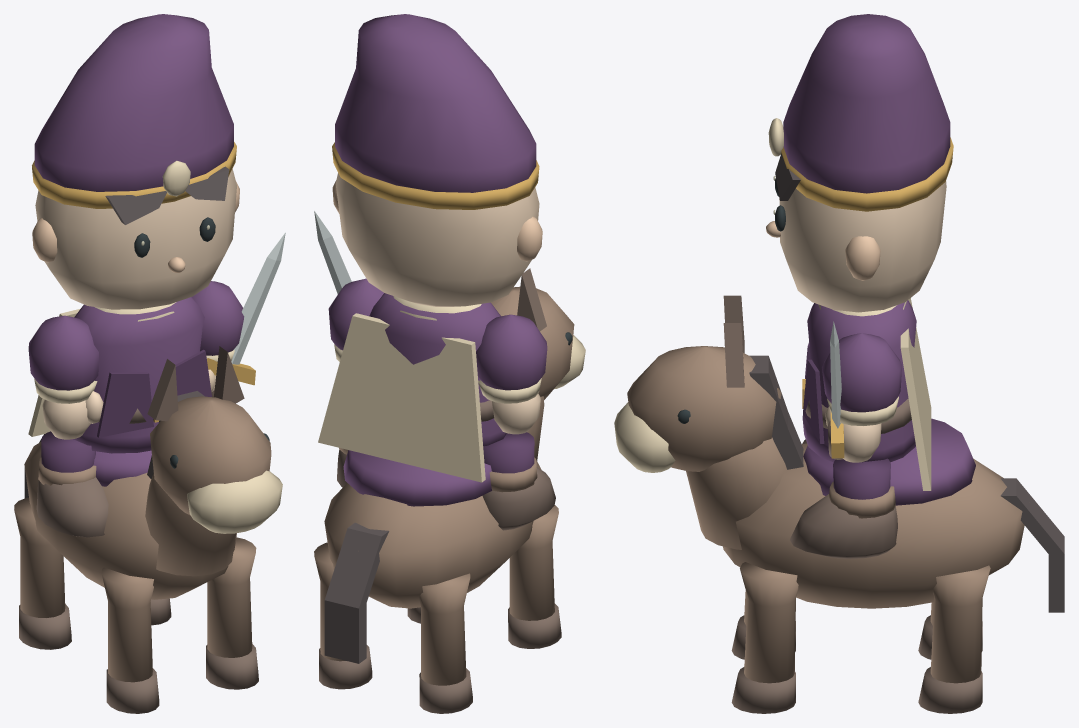
Rendered from rider.glb.
3 renders of one model, left to right at view 1: azimuth 30°, elevation 25°; view 2: azimuth 150°, elevation 25°; view 3: azimuth 270°, elevation 25°, orthographic. The views are drawn at different scales.
Parts seen in each view (by area): view 1: Folded Persian tiara, Soft cheek head, Pony head, Short folded tunic, Plump pony body, Pony neck, Pony stubby leg, Pony stubby leg.001, Puff sleeve, Pony muzzle, Pony stubby leg.002, Round leather boot (+24 smaller); view 2: Folded Persian tiara, Persian shoulder drape, Soft cheek head, Plump pony body, Pony tail, Short folded tunic, Saddle blanket, Pony stubby leg.002, Puff sleeve, Pony stubby leg, Tiara gold band, Pony head (+15 smaller); view 3: Folded Persian tiara, Plump pony body, Soft cheek head, Pony head, Pony neck, Short folded tunic, Pony stubby leg.001, Pony stubby leg.003, Saddle blanket, Round leather boot.001, Puff sleeve.001, Tiara gold band (+15 smaller).
Boxes of the visible parts, x1,y1,x2,y2 form: Folded Persian tiara: (34,14,233,191); Soft cheek head: (35,169,236,309); Pony head: (150,396,271,515); Short folded tunic: (73,297,204,453); Plump pony body: (24,442,236,599); Pony neck: (145,473,235,576); Pony stubby leg: (101,567,153,682); Pony stubby leg.001: (207,537,256,657); Puff sleeve: (28,315,98,390); Pony muzzle: (187,470,282,533); Pony stubby leg.002: (14,497,65,617); Round leather boot: (36,477,108,537); Folded Persian tiara: (335,14,536,192); Persian shoulder drape: (318,313,485,482); Soft cheek head: (335,173,539,306); Plump pony body: (324,459,541,608); Pony tail: (324,522,389,663); Short folded tunic: (369,293,506,448); Saddle blanket: (343,450,491,506); Pony stubby leg.002: (419,573,470,685); Puff sleeve: (476,314,547,390); Pony stubby leg: (509,505,558,620); Tiara gold band: (332,142,539,209); Pony head: (491,286,574,399); Folded Persian tiara: (783,14,950,193); Plump pony body: (723,443,1024,608); Soft cheek head: (779,181,946,312); Pony head: (627,346,781,471); Pony neck: (686,437,786,549); Short folded tunic: (802,300,916,462); Pony stubby leg.001: (740,562,798,683); Pony stubby leg.003: (930,565,990,683); Saddle blanket: (803,418,975,505); Round leather boot.001: (790,494,897,558); Puff sleeve.001: (822,333,901,412); Tiara gold band: (780,137,953,211).
Bounding box in the file's own units: 0.9142 × 2.28 × 1.4.
